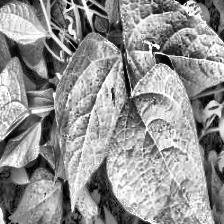ALS: (107, 73, 220, 224), (51, 24, 124, 216), (121, 0, 223, 96)
